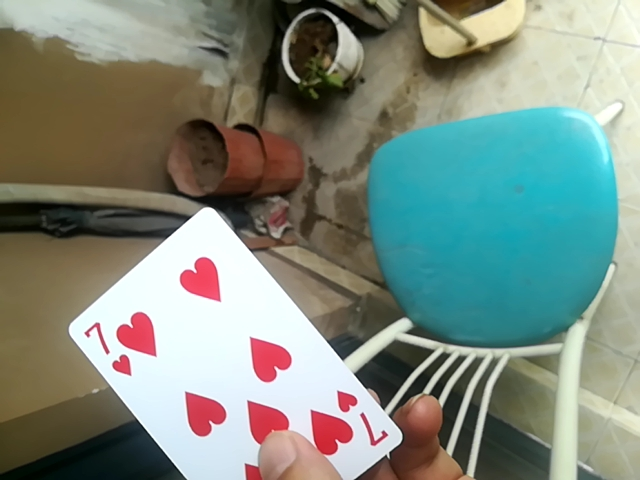hx 7: (63, 204, 396, 476)
